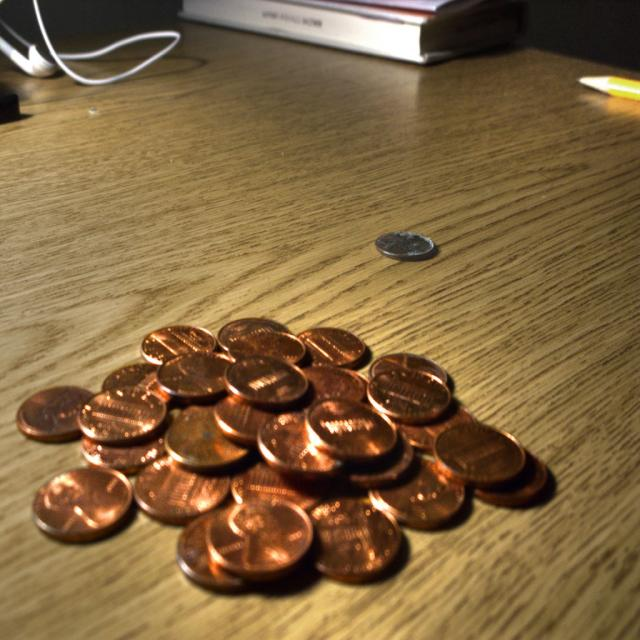Coin: (14, 323, 557, 585), (371, 228, 437, 257)
